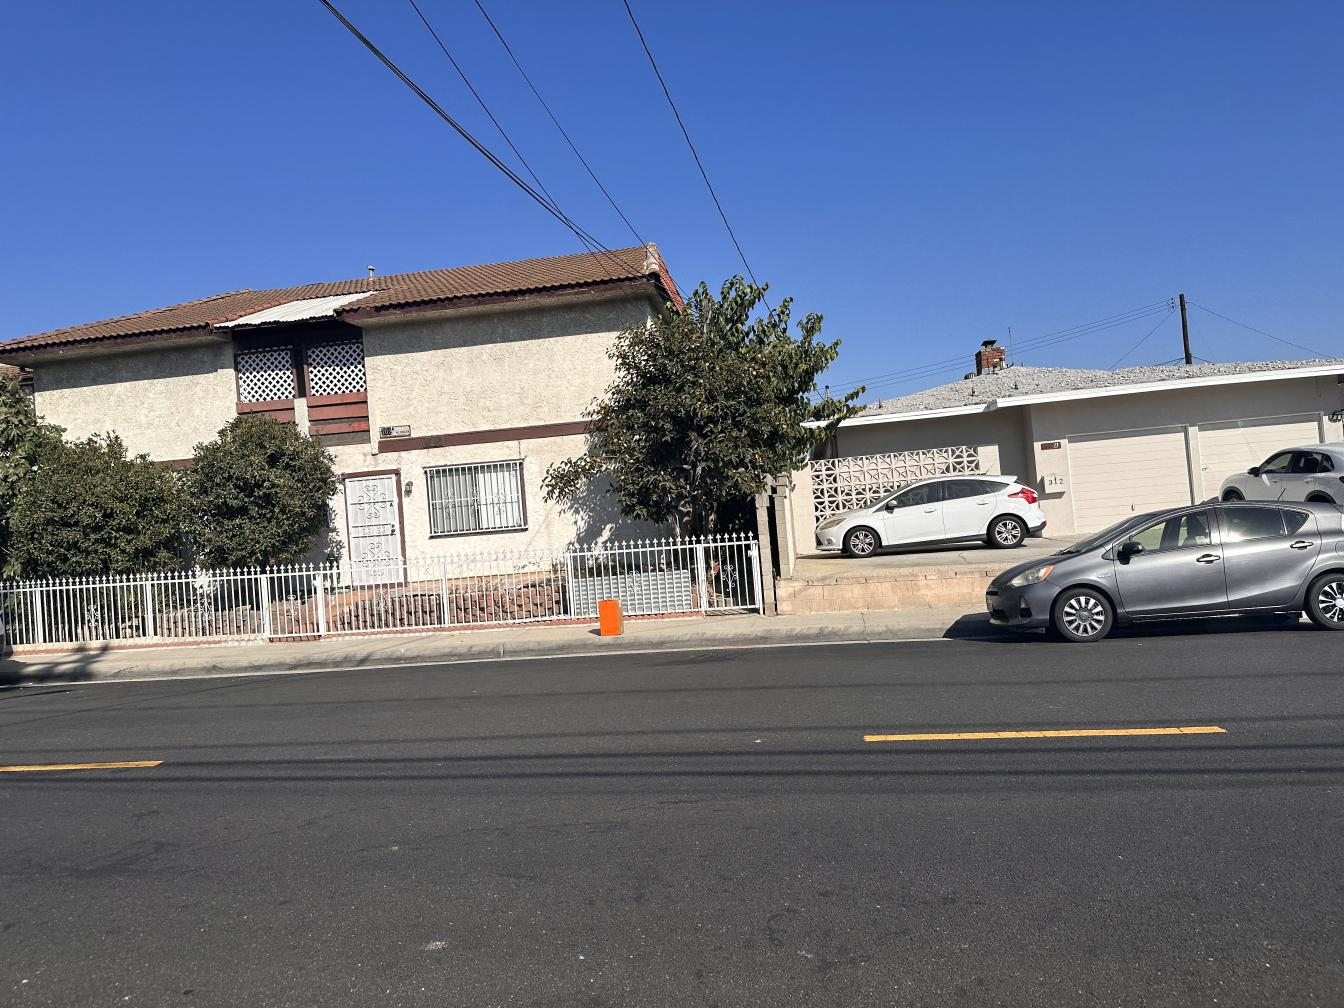curbs-laRr: (644, 619, 949, 656), (141, 650, 299, 683), (435, 635, 586, 668), (304, 641, 428, 678), (8, 660, 135, 690)
orange box: (598, 598, 626, 637)
